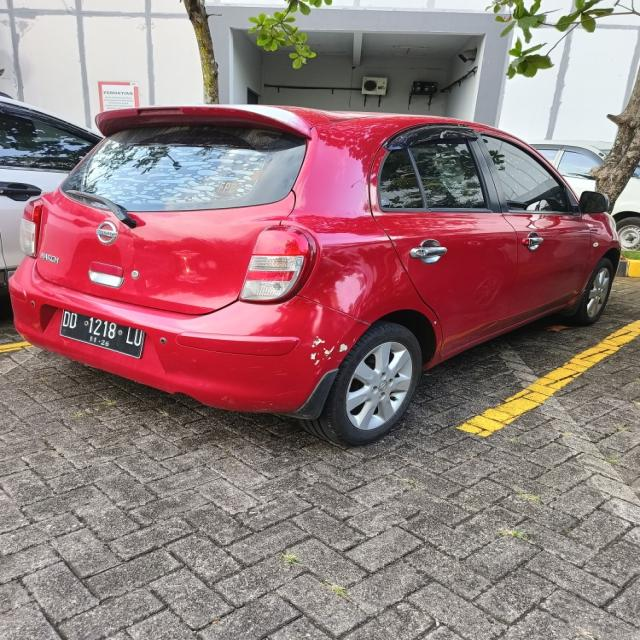plates: (66, 302, 154, 358)
